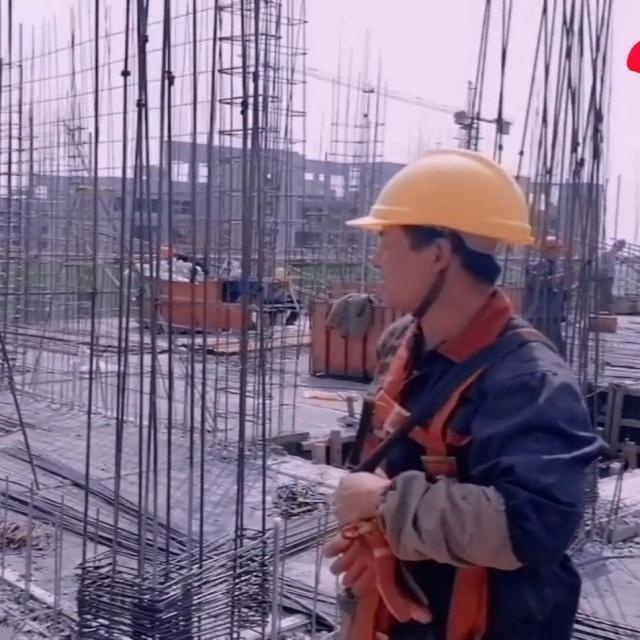Arnes_seguridad: (342, 306, 534, 498)
